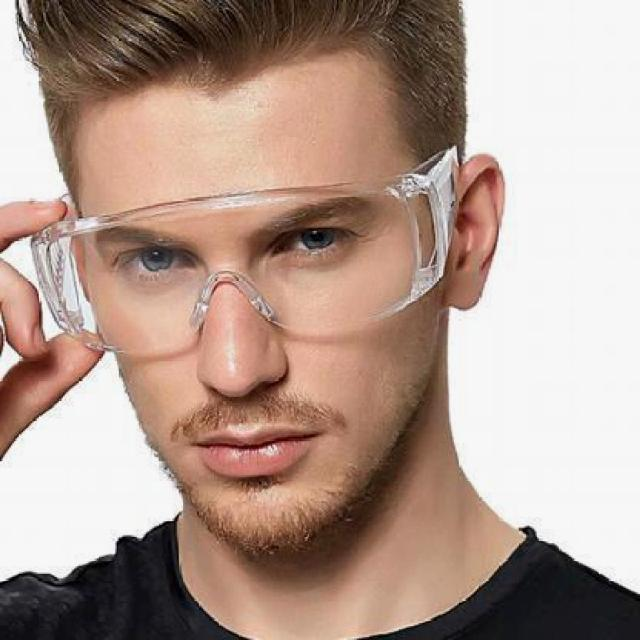face_mask: (31, 143, 460, 360)
face_nomask: (111, 198, 374, 492)
